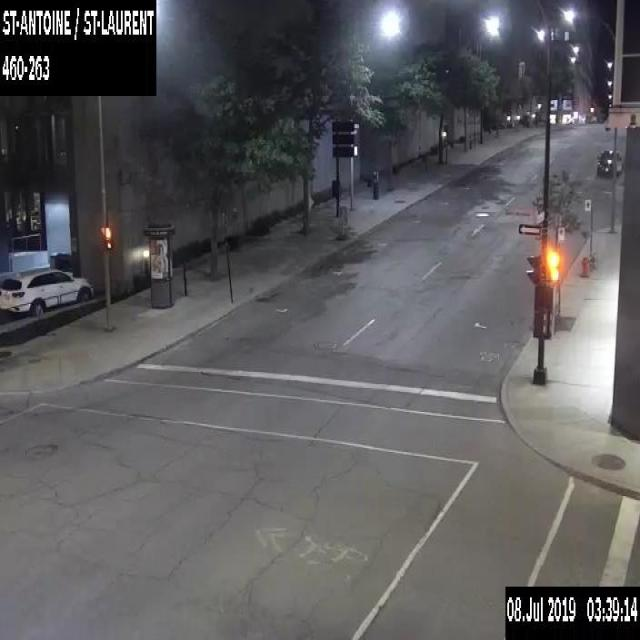vehicle: (0, 266, 94, 316), (596, 148, 624, 179)
